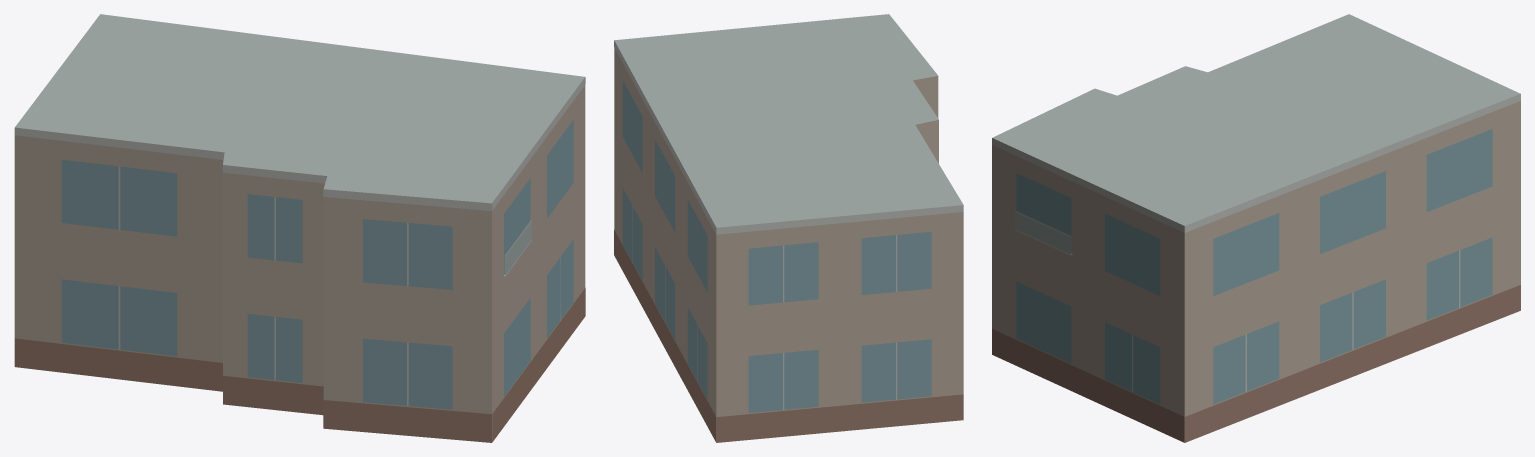
The model's file is survey-upis-32963844.glb.
The picture shows the model from 3 angles, left to right: view 1: azimuth 30°, elevation 25°; view 2: azimuth 150°, elevation 25°; view 3: azimuth 270°, elevation 25°; orthographic projection. The views are drawn at different scales.
Visible parts, largest first — view 1: survey-upis-32963844.tmp; view 2: survey-upis-32963844.tmp; view 3: survey-upis-32963844.tmp.
Boxes of the visible parts, bbox=[...] form: survey-upis-32963844.tmp: bbox=[14, 14, 585, 442]; survey-upis-32963844.tmp: bbox=[614, 14, 963, 442]; survey-upis-32963844.tmp: bbox=[992, 14, 1520, 442].
Bounding box in the file's own units: 15.95 × 7.6 × 16.8.
